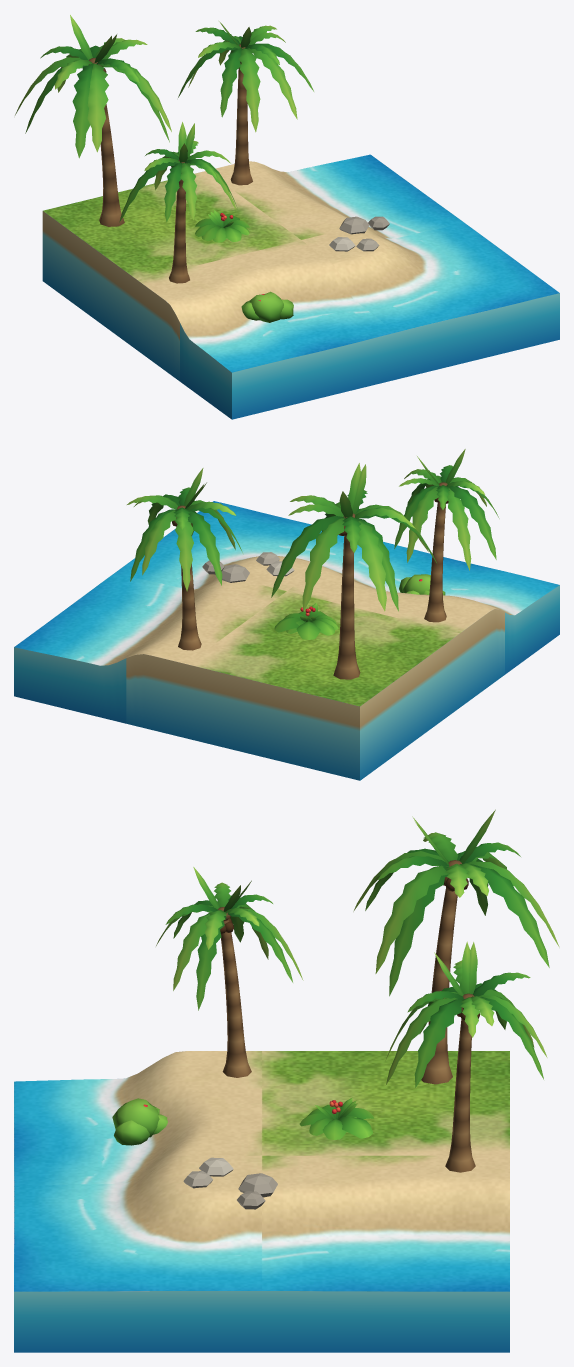
Rendered from Corner_Plain.obj.
3 renders of one model, top to bottom at view 1: azimuth 30°, elevation 25°; view 2: azimuth 150°, elevation 25°; view 3: azimuth 270°, elevation 25°, orthographic. The views are drawn at different scales.
Visible parts, largest first — view 1: Corner_Plain_Corner_Plain_Terrain, Corner_Plain_Palette; view 2: Corner_Plain_Palette, Corner_Plain_Corner_Plain_Terrain; view 3: Corner_Plain_Corner_Plain_Terrain, Corner_Plain_Palette.
Part boxes in pixels (x1=…): Corner_Plain_Corner_Plain_Terrain: x1=43, y1=154, x2=559, y2=372; Corner_Plain_Palette: x1=15, y1=15, x2=559, y2=419; Corner_Plain_Palette: x1=14, y1=449, x2=559, y2=780; Corner_Plain_Corner_Plain_Terrain: x1=14, y1=501, x2=559, y2=706; Corner_Plain_Corner_Plain_Terrain: x1=14, y1=1051, x2=509, y2=1291; Corner_Plain_Palette: x1=14, y1=809, x2=559, y2=1352.
Bounding box in the file's own units: 4.33 × 3.09 × 4.4.
Materials: 2 (2 with a texture image).
